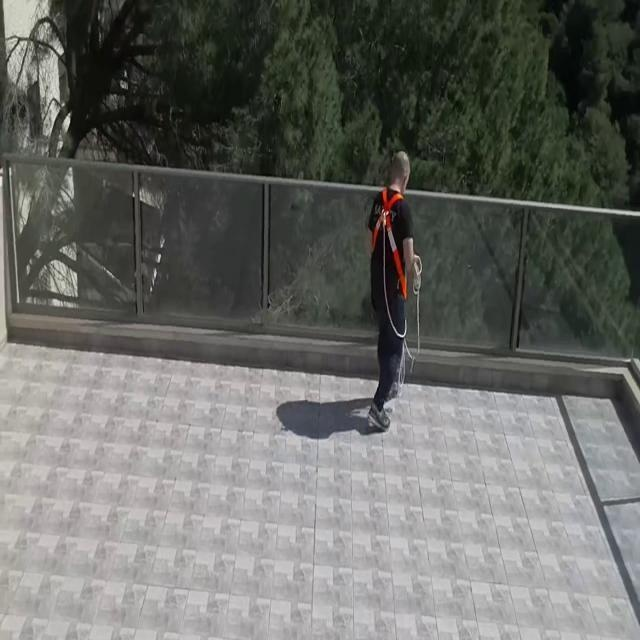Arnes_seguridad: (369, 185, 412, 328)
